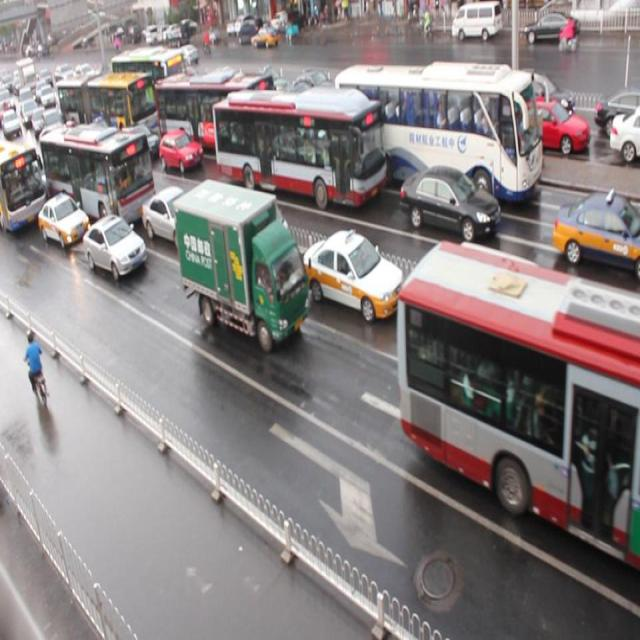bus: (172, 179, 310, 350)
car: (300, 228, 404, 321), (398, 164, 499, 241), (550, 191, 640, 276), (141, 185, 208, 250), (83, 212, 148, 276), (36, 187, 88, 243), (159, 128, 202, 172), (116, 123, 160, 164)
truck: (440, 240, 568, 386), (216, 186, 292, 276)
van: (398, 240, 640, 570), (335, 65, 541, 206), (214, 86, 385, 207), (38, 121, 156, 232), (154, 70, 274, 160), (58, 71, 158, 132), (1, 134, 46, 226)
